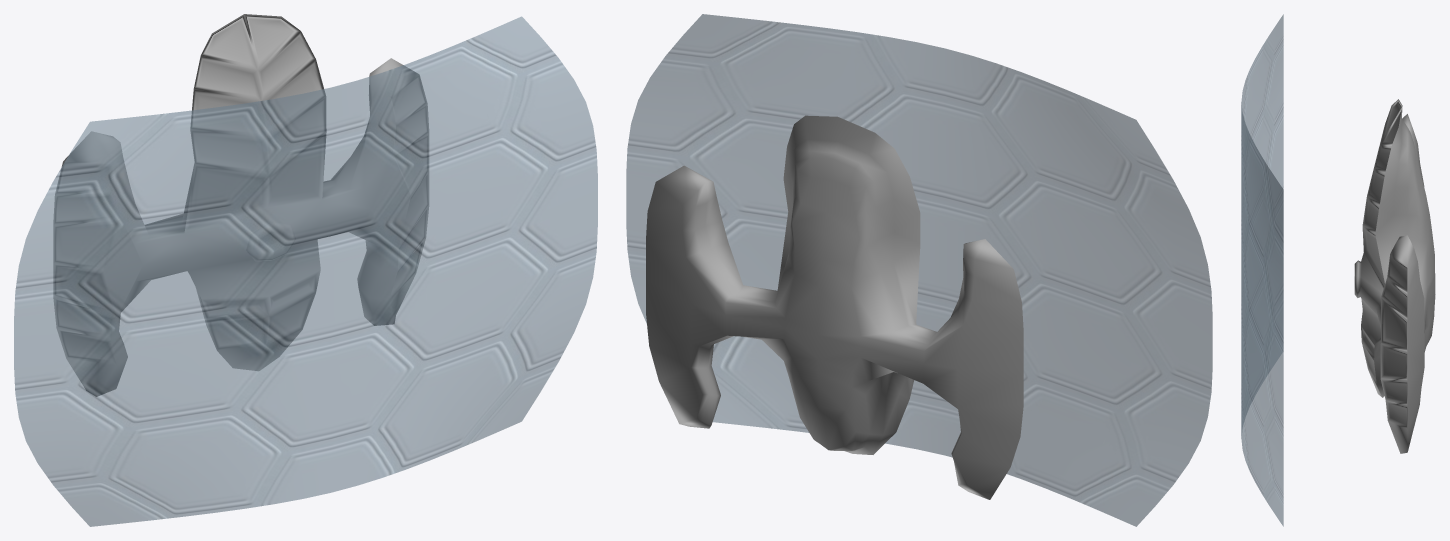
Rendered from ShieldDrone.fbx.
3 views of the same model, side by side, from view 1: azimuth 30°, elevation 25°; view 2: azimuth 150°, elevation 25°; view 3: azimuth 270°, elevation 25° (orthographic). The views are drawn at different scales.
Visible parts, largest first — view 1: pPlane3, pSphere7; view 2: pPlane3, pSphere7; view 3: pPlane3, pSphere7.
Part boxes in pixels (bbox=[...]): pPlane3: bbox=[14, 16, 597, 526]; pSphere7: bbox=[53, 14, 428, 396]; pPlane3: bbox=[626, 14, 1212, 526]; pSphere7: bbox=[646, 115, 1023, 499]; pPlane3: bbox=[1241, 14, 1283, 526]; pSphere7: bbox=[1354, 99, 1435, 453].
Size of the model in its own units: 10.5 by 6.97 by 3.63.
Materials: 2 (1 with a texture image).
